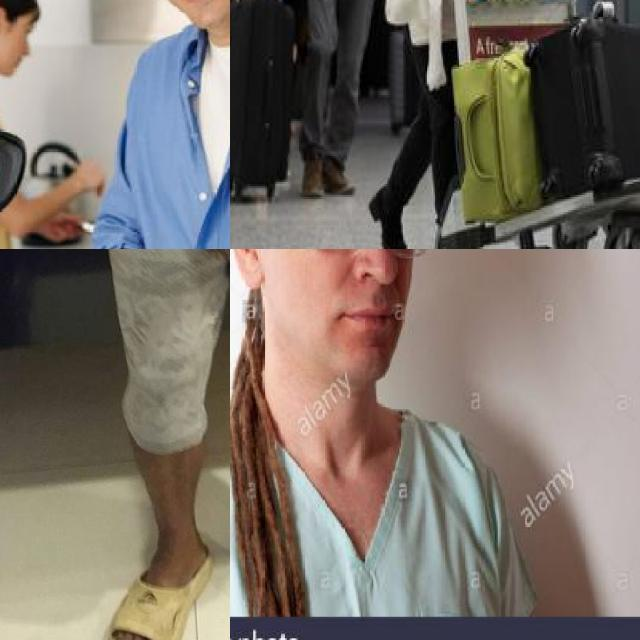No_Ear-Protection: (230, 249, 269, 289)
Sandals: (82, 521, 230, 640)
face_nomask: (294, 249, 427, 341), (4, 12, 42, 78)
hand_noglove: (62, 152, 108, 204)
person: (230, 249, 550, 614), (414, 0, 583, 249), (71, 0, 230, 249), (291, 0, 384, 208), (0, 0, 57, 249)
shoes: (367, 180, 412, 249), (322, 152, 358, 202), (296, 154, 328, 199)
